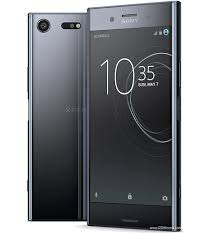sony: (85, 1, 183, 231), (27, 9, 89, 220)
